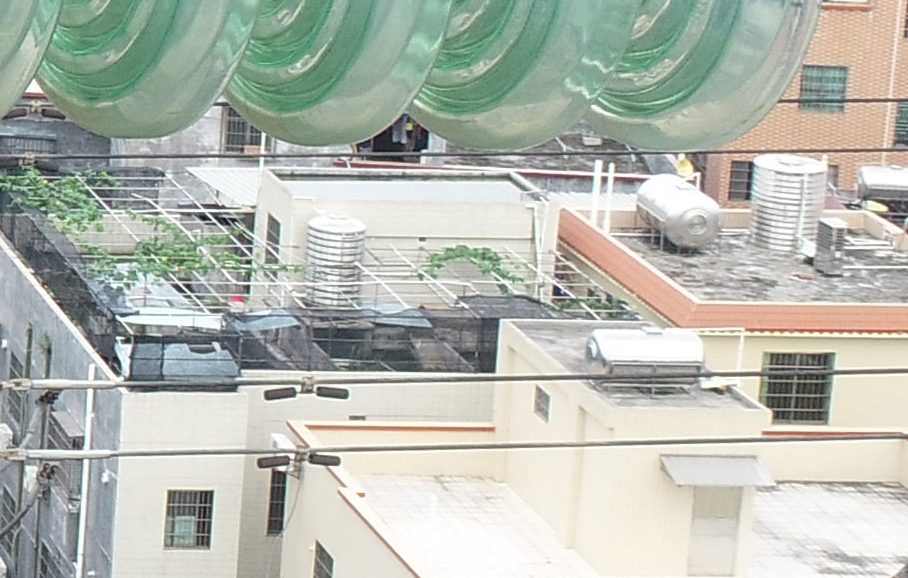damper: (263, 375, 351, 403), (254, 441, 341, 468)
